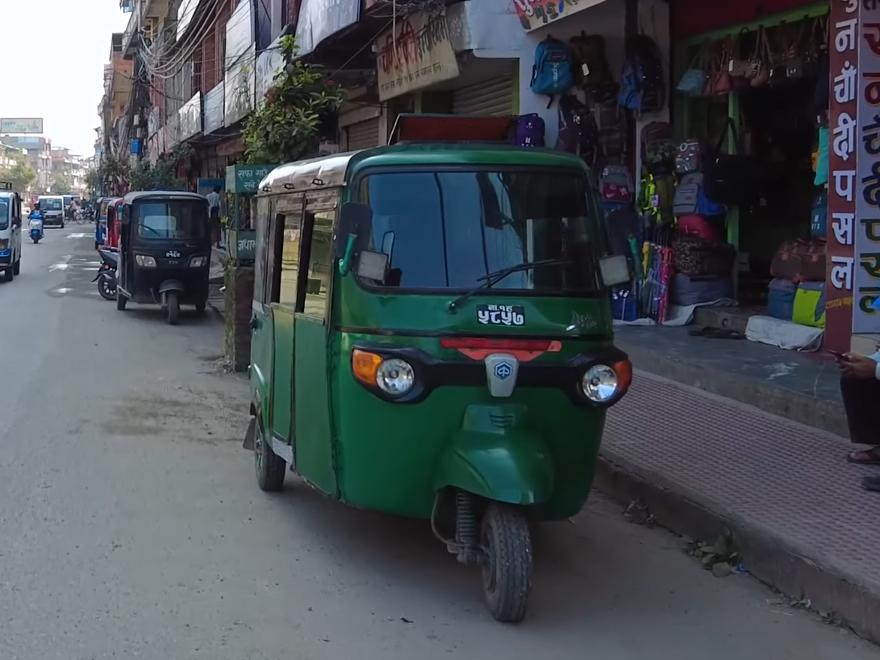auto_rickshaw: (244, 136, 634, 629), (117, 180, 224, 338)
